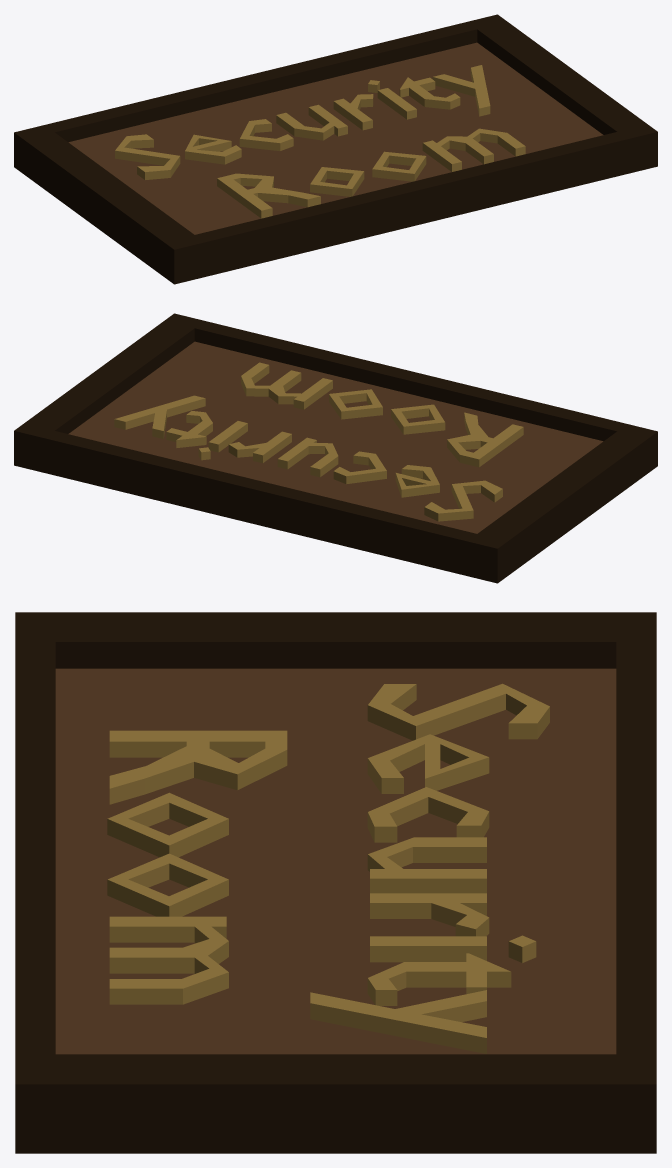
The model's file is Security Room Sign.fbx.
3 renders of one model, top to bottom at view 1: azimuth 30°, elevation 25°; view 2: azimuth 150°, elevation 25°; view 3: azimuth 270°, elevation 25°, orthographic. The views are drawn at different scales.
Visible parts, largest first — view 1: Cube; view 2: Cube; view 3: Cube.
Boxes of the visible parts, x1=… form: Cube: x1=14, y1=14, x2=657, y2=284; Cube: x1=14, y1=313, x2=657, y2=583; Cube: x1=15, y1=612, x2=656, y2=1153.
Bounding box in the file's own units: 1860 × 128 × 1068.
